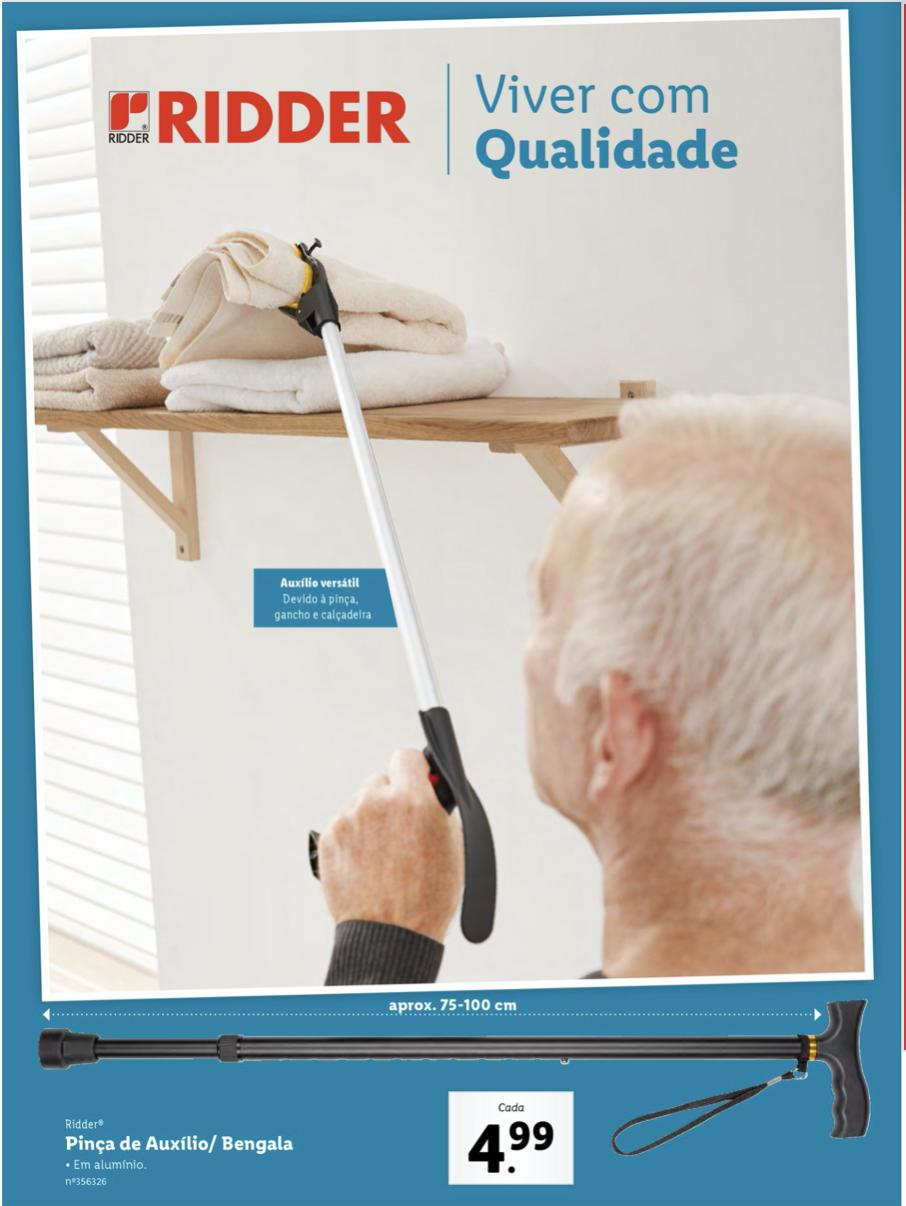name: (63, 1130, 300, 1157)
price: (463, 1113, 561, 1175)
product: (3, 24, 882, 1200)
